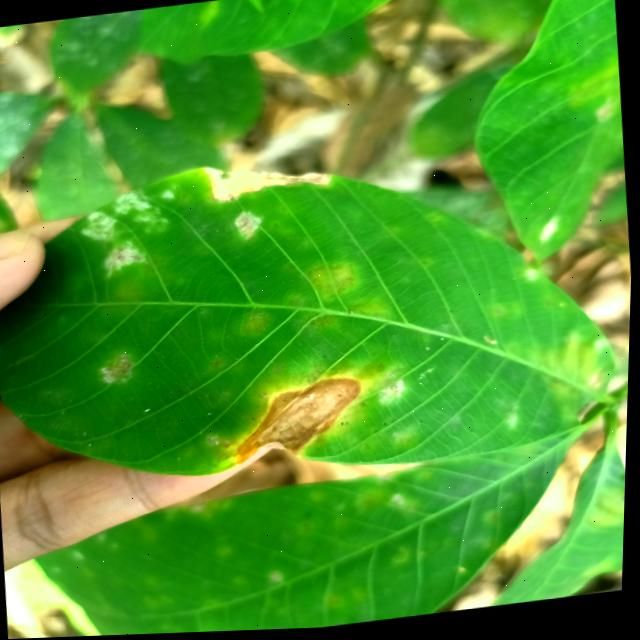Leaf-Blight: (228, 373, 373, 467), (204, 153, 336, 206)
